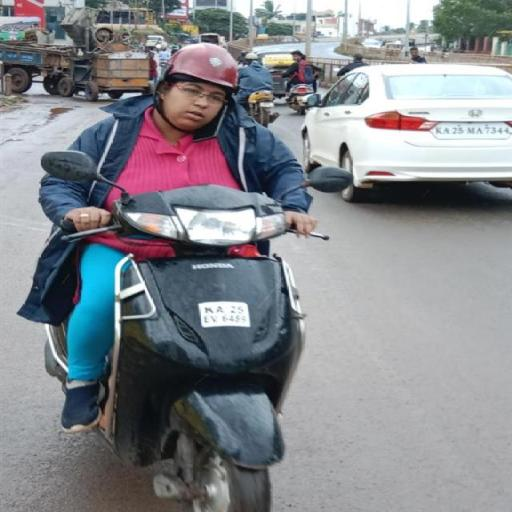using mobile: (189, 95, 240, 151)
